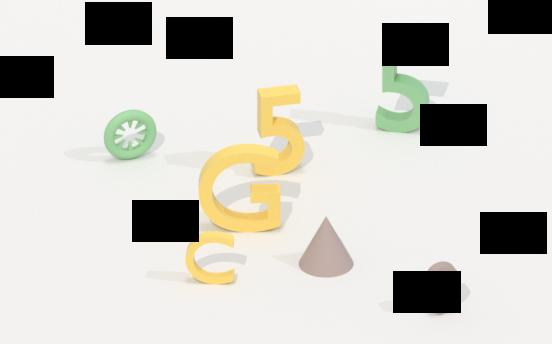5: (373, 41, 432, 139), (250, 82, 310, 178)
9: (424, 258, 462, 319)
G-hoa: (196, 138, 282, 237)
c: (181, 227, 242, 290)
non: (297, 214, 354, 281)
tron: (102, 105, 159, 164)
